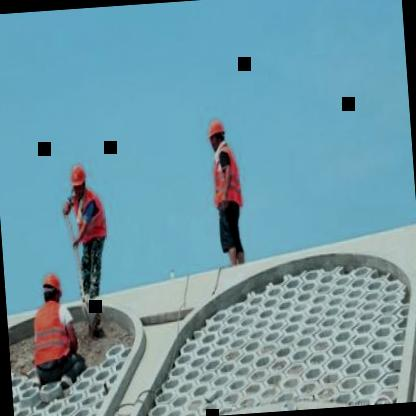helmet: (38, 270, 64, 312), (66, 162, 90, 202), (206, 115, 228, 155)
